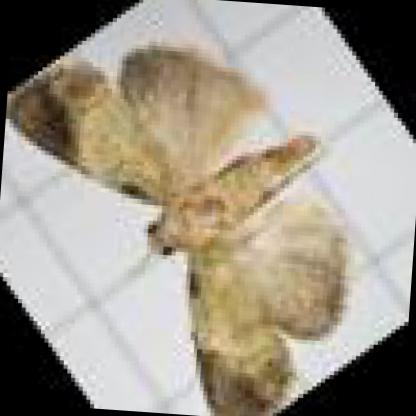Leaf Webber: (10, 50, 343, 415)
